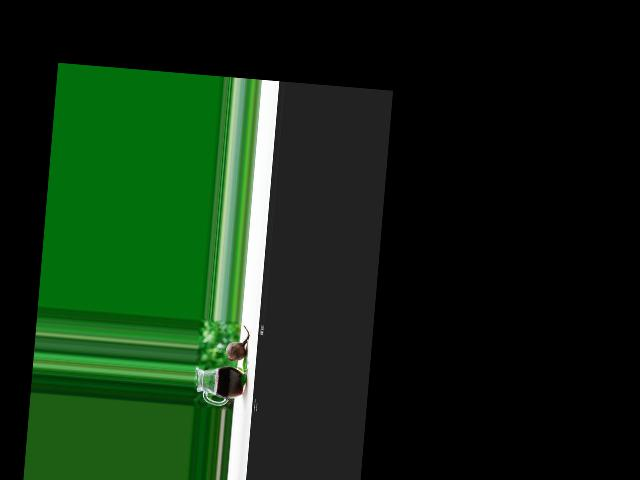beet: (225, 324, 250, 362)
